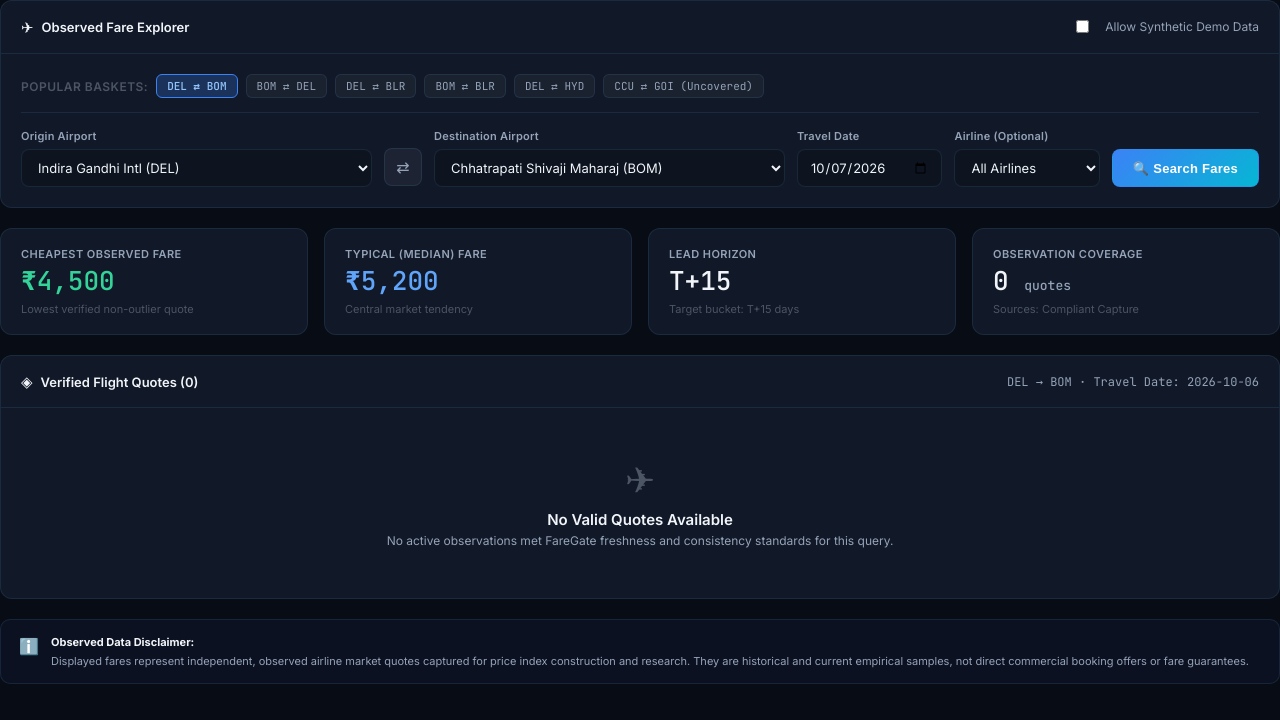
Test: FareExplorer Component › shows validation error for past travel dates
The image size is (1280, 720).
Type "2020-01-01" into the date field labelled "Travel Date" at (870, 168), box [797, 149, 942, 187]
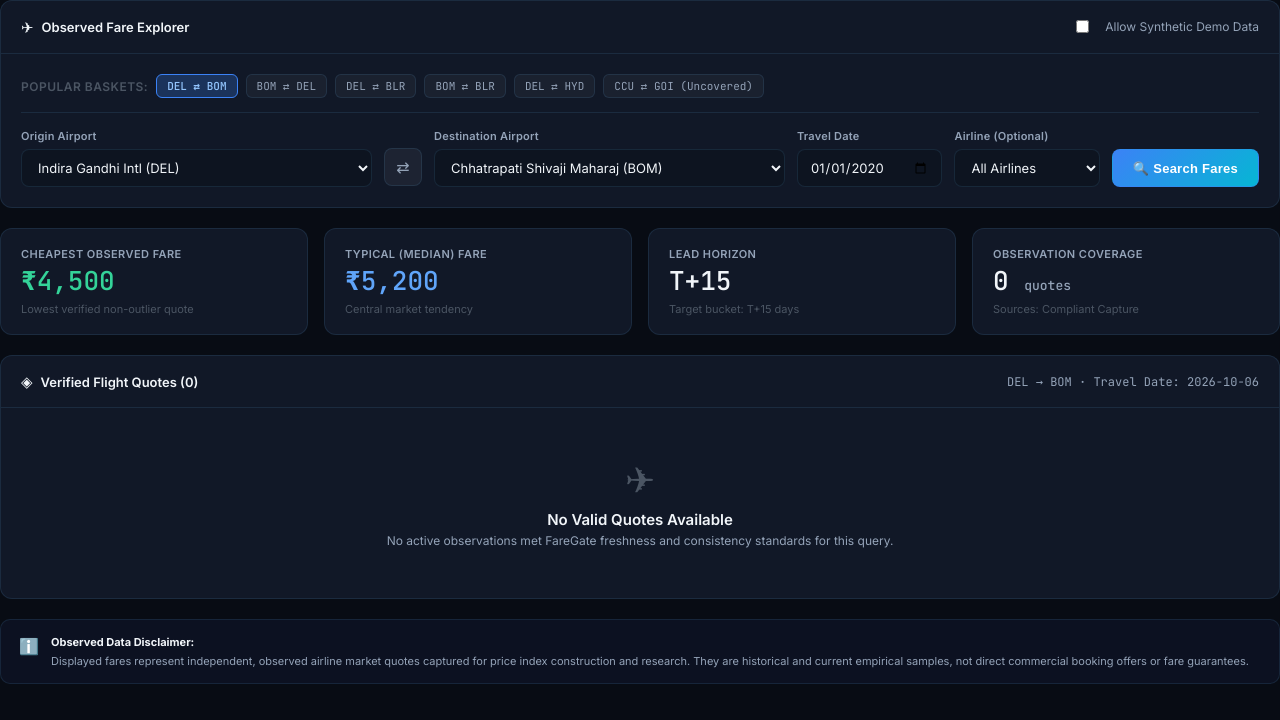
Click the button "🔍 Search Fares" at (1185, 168), box [1112, 149, 1259, 187]
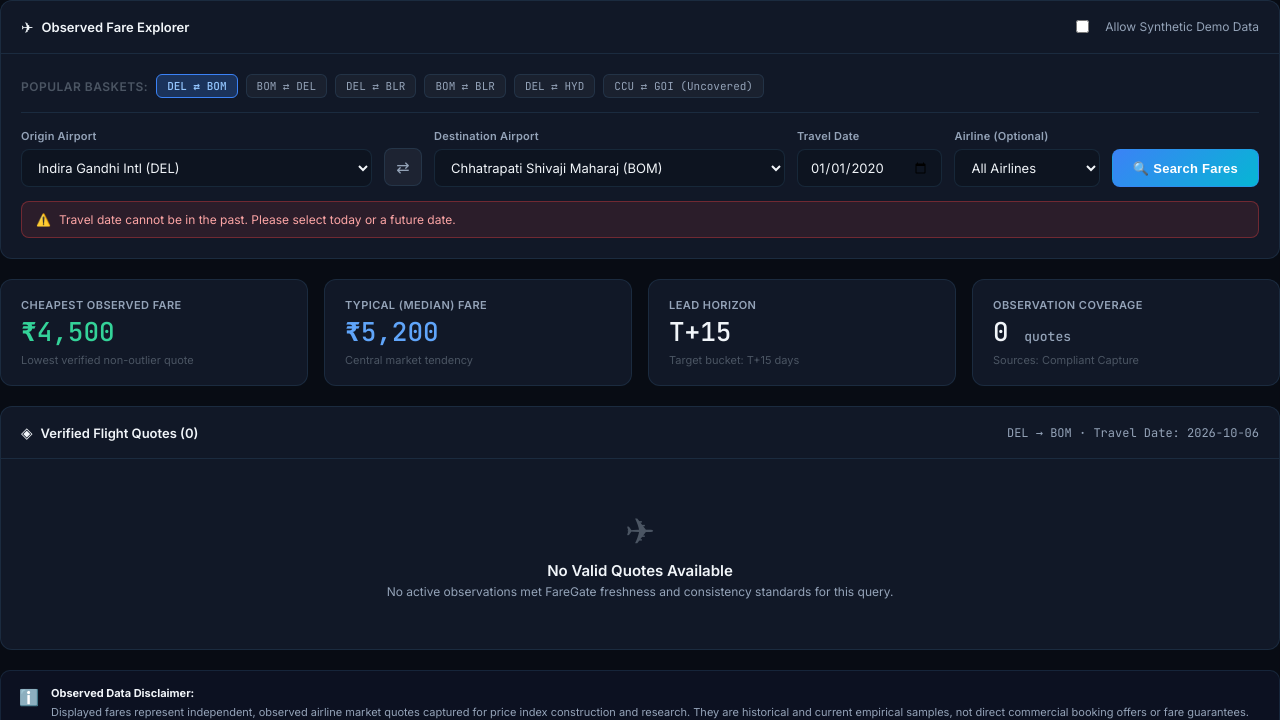
Check: the text "⚠️ Travel date cannot be in the past. Please select today or a future date." is shown, box [21, 201, 1259, 238]
